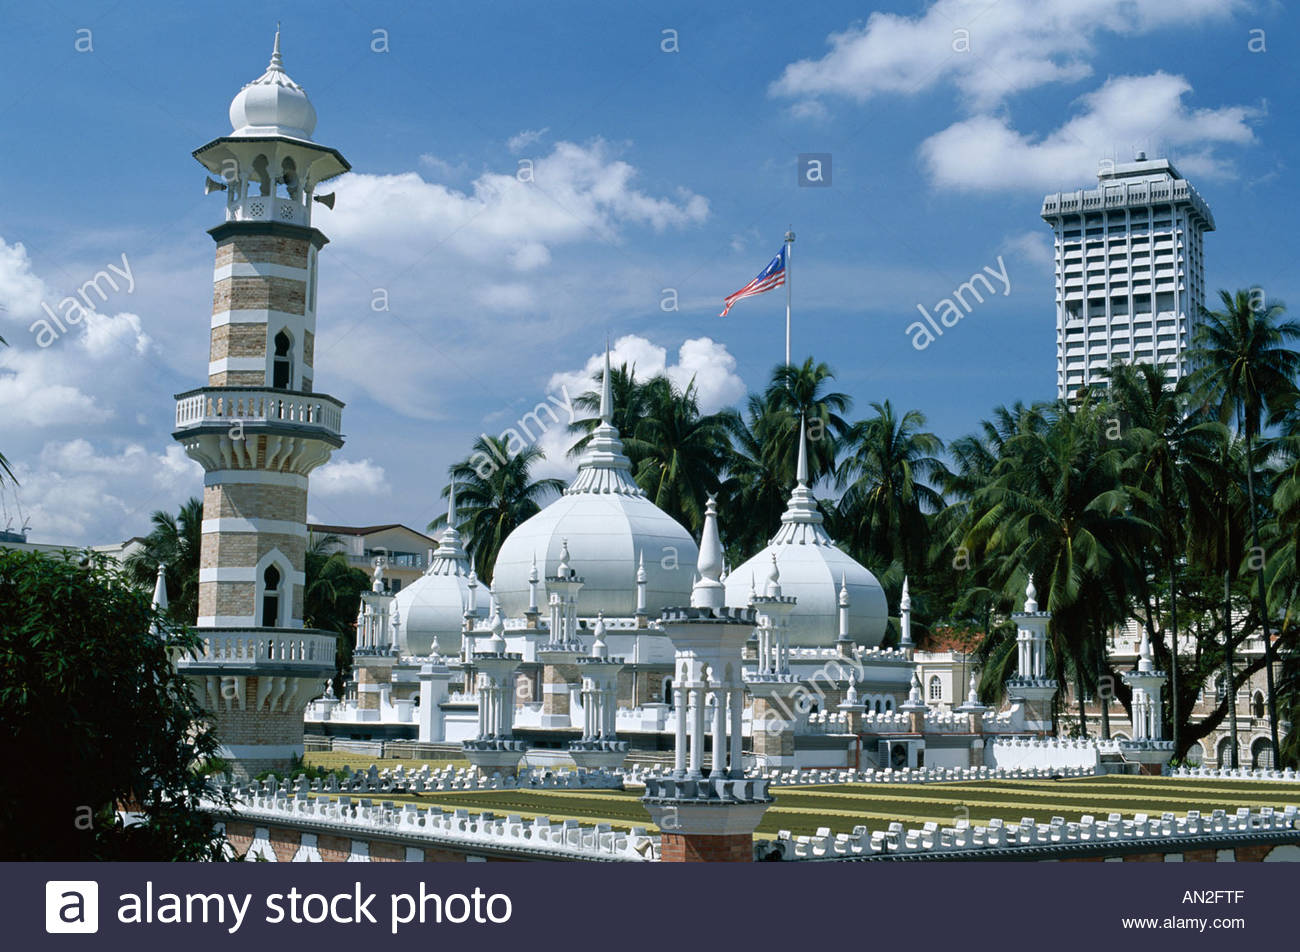Mosque: (153, 35, 1059, 783)
